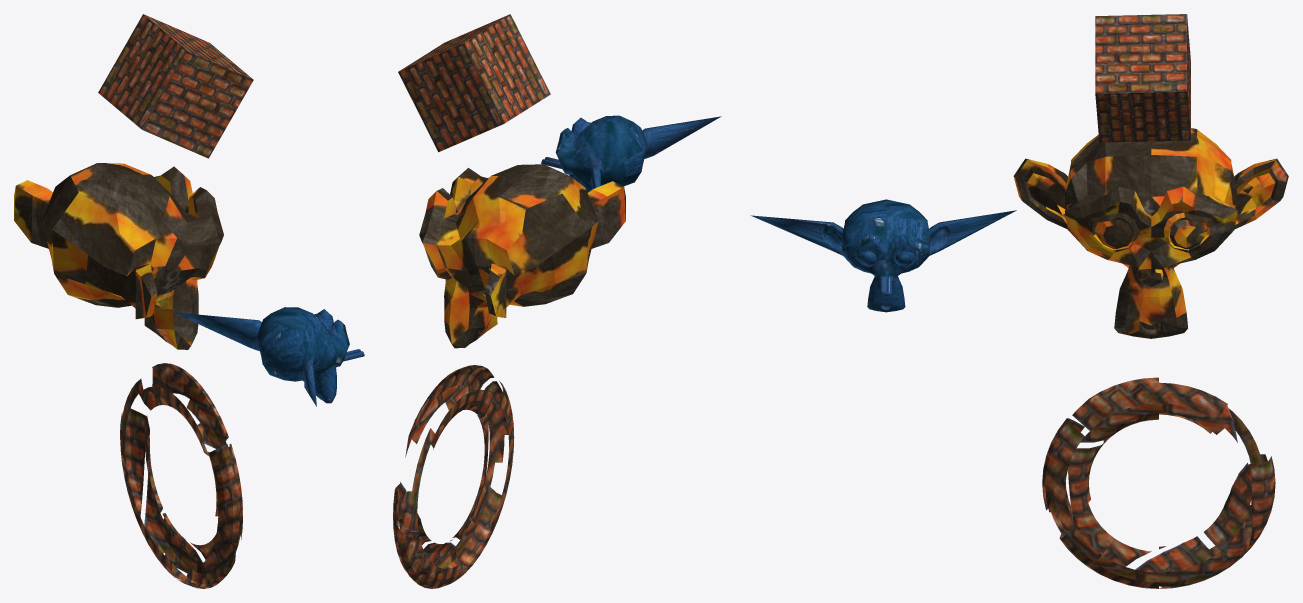
The model's file is monos.obj.
3 views of the same model, side by side, from view 1: azimuth 30°, elevation 25°; view 2: azimuth 150°, elevation 25°; view 3: azimuth 270°, elevation 25° (orthographic).
Visible parts, largest first — view 1: Suzanne, Torus, Cube_CuboDemierda, Suzanne.002; view 2: Suzanne, Torus, Cube_CuboDemierda, Suzanne.002; view 3: Suzanne, Torus, Cube_CuboDemierda, Suzanne.002.
Part boxes in pixels (left/top/right/bottom): Suzanne: left=14, top=163, right=223, bottom=349; Torus: left=120, top=363, right=242, bottom=588; Cube_CuboDemierda: left=98, top=14, right=253, bottom=158; Suzanne.002: left=173, top=307, right=364, bottom=406; Suzanne: left=419, top=164, right=625, bottom=348; Torus: left=393, top=365, right=514, bottom=588; Cube_CuboDemierda: left=398, top=14, right=550, bottom=152; Suzanne.002: left=541, top=115, right=721, bottom=192; Suzanne: left=1013, top=128, right=1288, bottom=338; Torus: left=1042, top=377, right=1275, bottom=588; Cube_CuboDemierda: left=1095, top=14, right=1190, bottom=142; Suzanne.002: left=750, top=199, right=1016, bottom=312.
Bounding box in the file's own units: 2.04 × 6.17 × 5.35.
4 materials, 4 textured.
